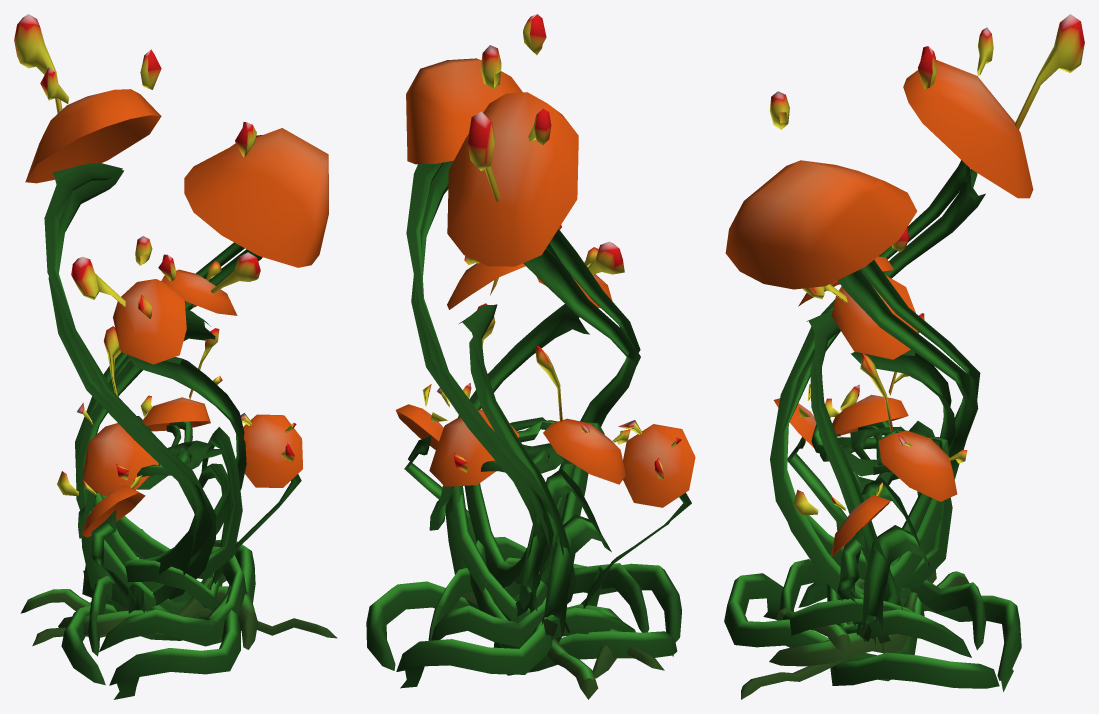
The model's file is Orange_up3rd_2.fbx.
3 renders of one model, left to right at view 1: azimuth 30°, elevation 25°; view 2: azimuth 150°, elevation 25°; view 3: azimuth 270°, elevation 25°, orthographic. The views are drawn at different scales.
Visible parts, largest first — view 1: pCube154; view 2: pCube154; view 3: pCube154.
Part boxes in pixels (x1,y1,x2,y2): pCube154: (14, 14, 337, 699); pCube154: (366, 14, 695, 699); pCube154: (724, 14, 1084, 699).
Bounding box in the file's own units: 336 × 713 × 369.
